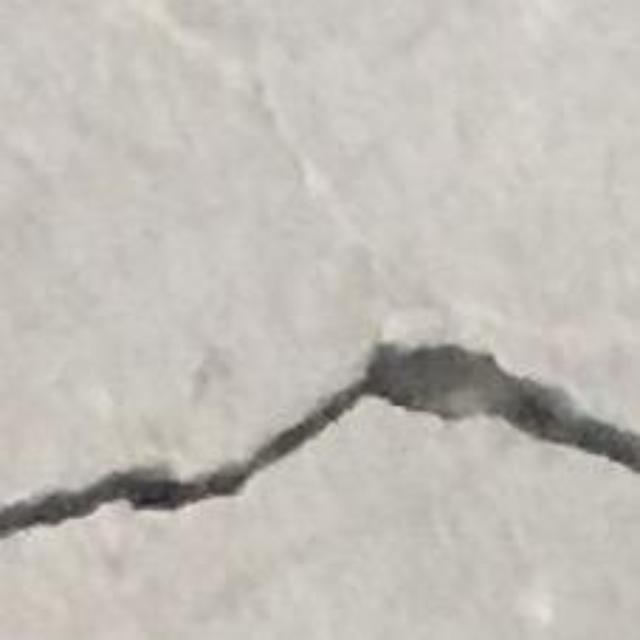crack: (0, 342, 639, 538)
